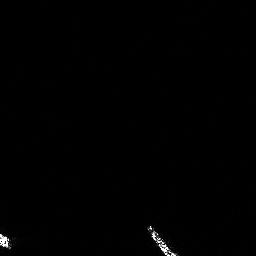ship: (145, 223, 182, 256)
